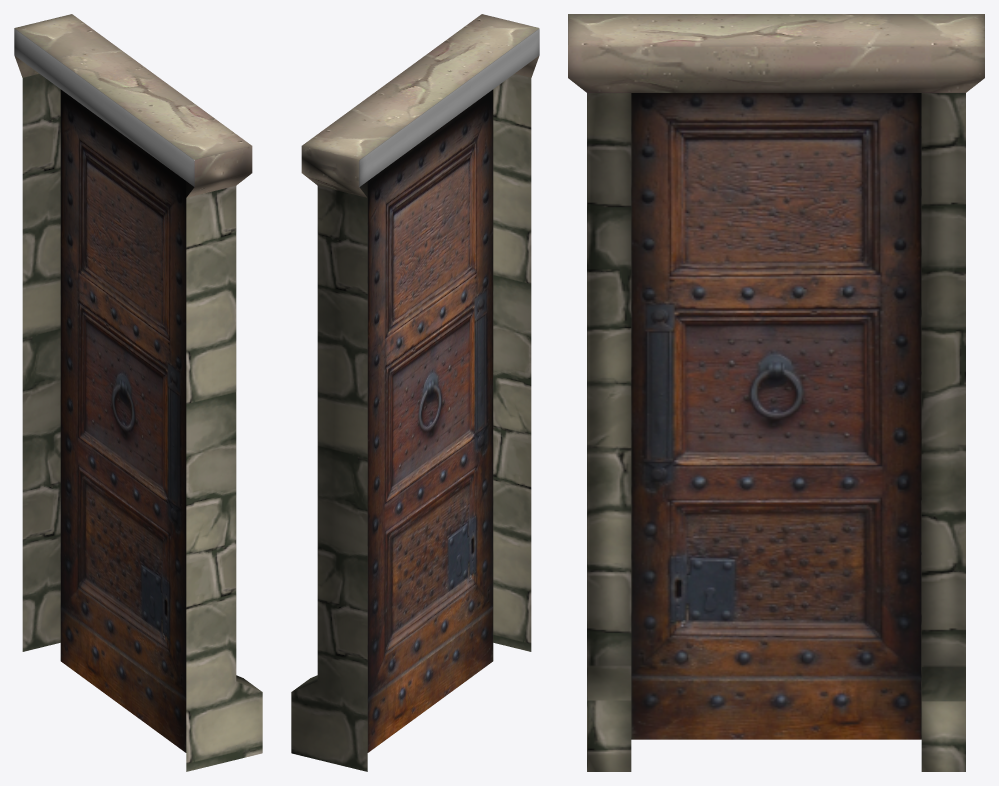
The model's file is Door2.fbx.
The picture shows the model from 3 angles, left to right: view 1: azimuth 30°, elevation 25°; view 2: azimuth 150°, elevation 25°; view 3: azimuth 270°, elevation 25°; orthographic projection. The views are drawn at different scales.
Parts seen in each view (by area): view 1: Cube_002; view 2: Cube_002; view 3: Cube_002.
Part boxes in pixels (bbox=[...]): Cube_002: bbox=[14, 14, 262, 771]; Cube_002: bbox=[291, 14, 539, 771]; Cube_002: bbox=[568, 14, 984, 771].
Bounding box in the file's own units: 0.538 × 4.16 × 2.2.
